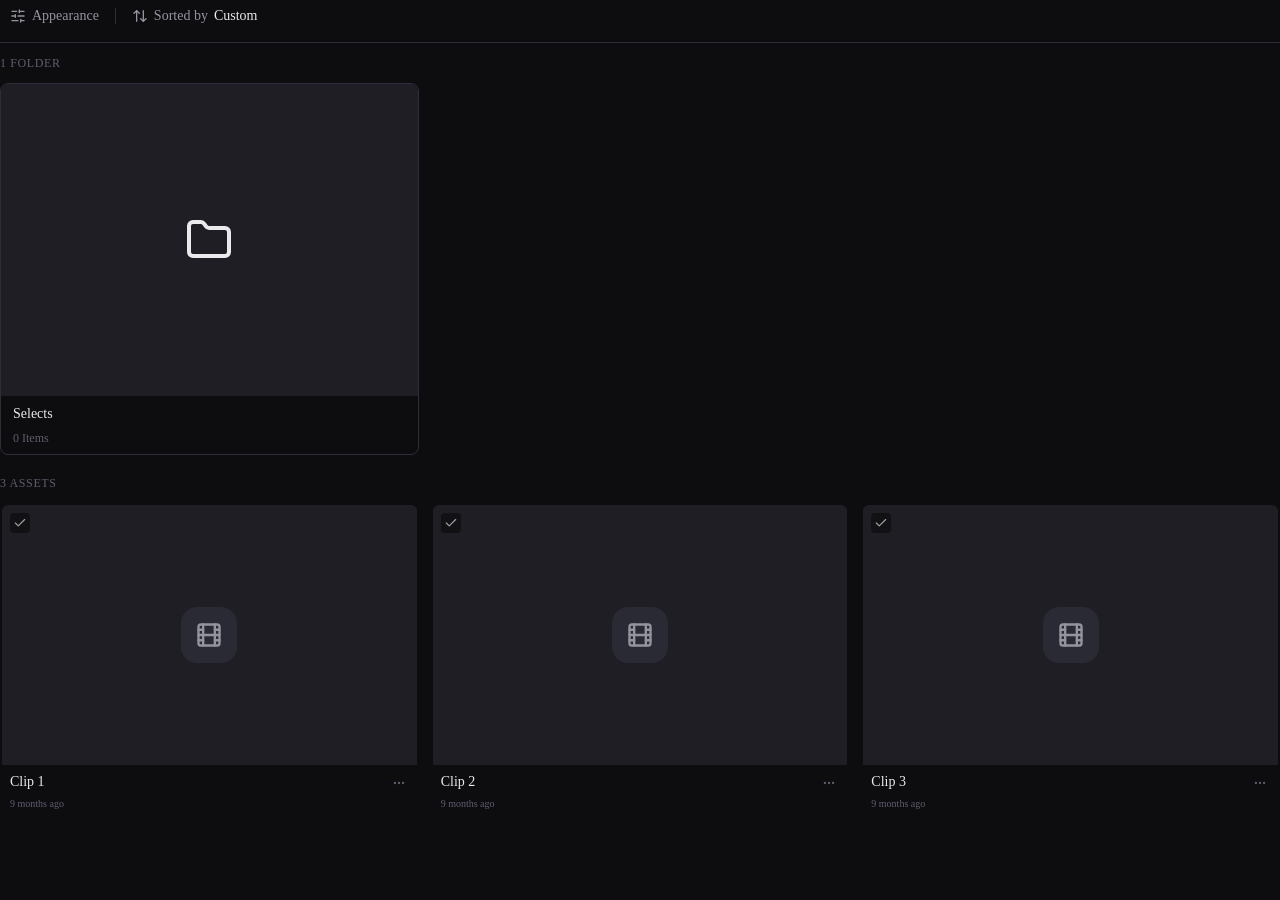
Test: AssetGrid right-click (grid view) › a selected folder gets the selection menu too
Click the text "Clip 1" at (27, 781), box left=10, top=773, right=45, bottom=790
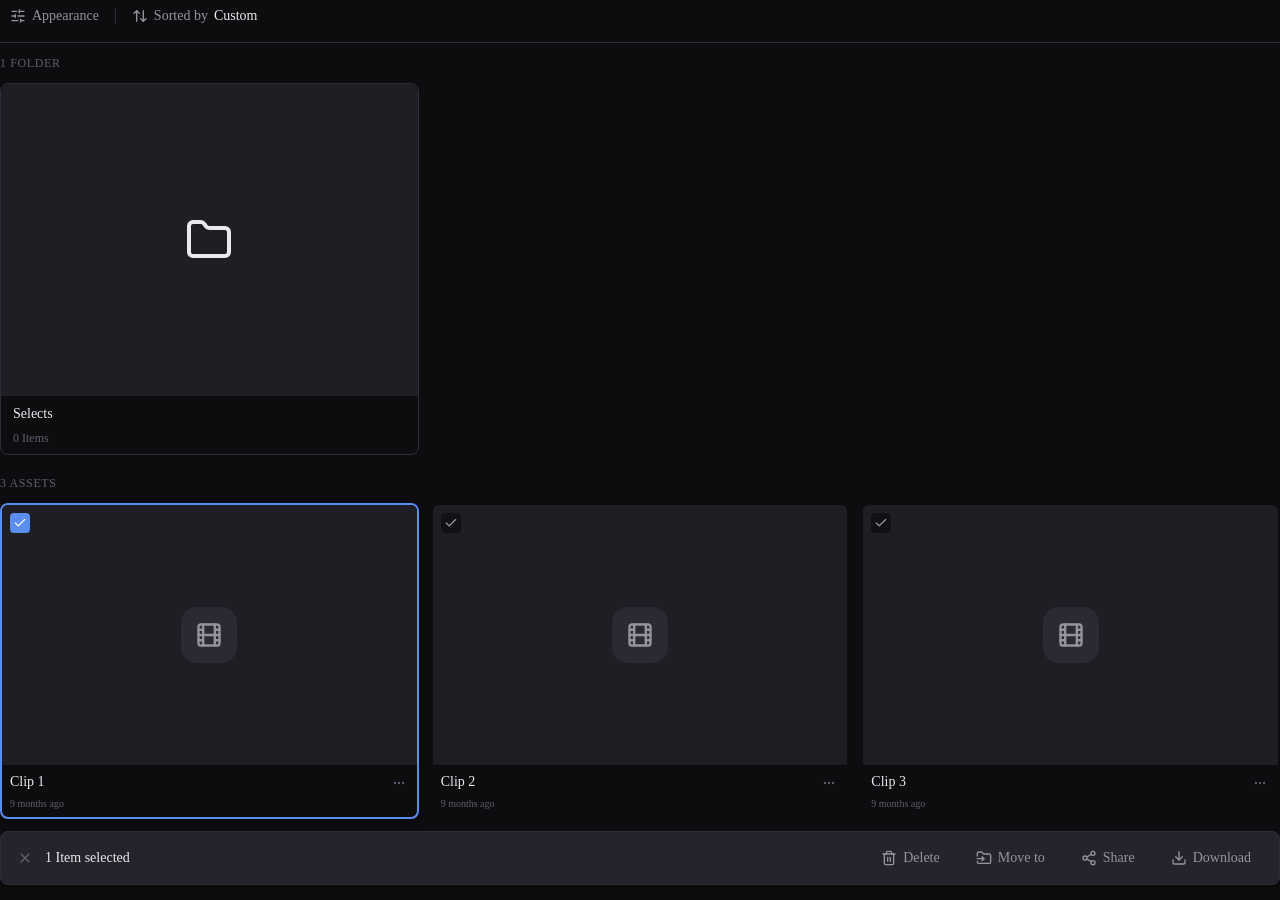
Click the text "Selects" at (33, 414), box left=13, top=404, right=53, bottom=424
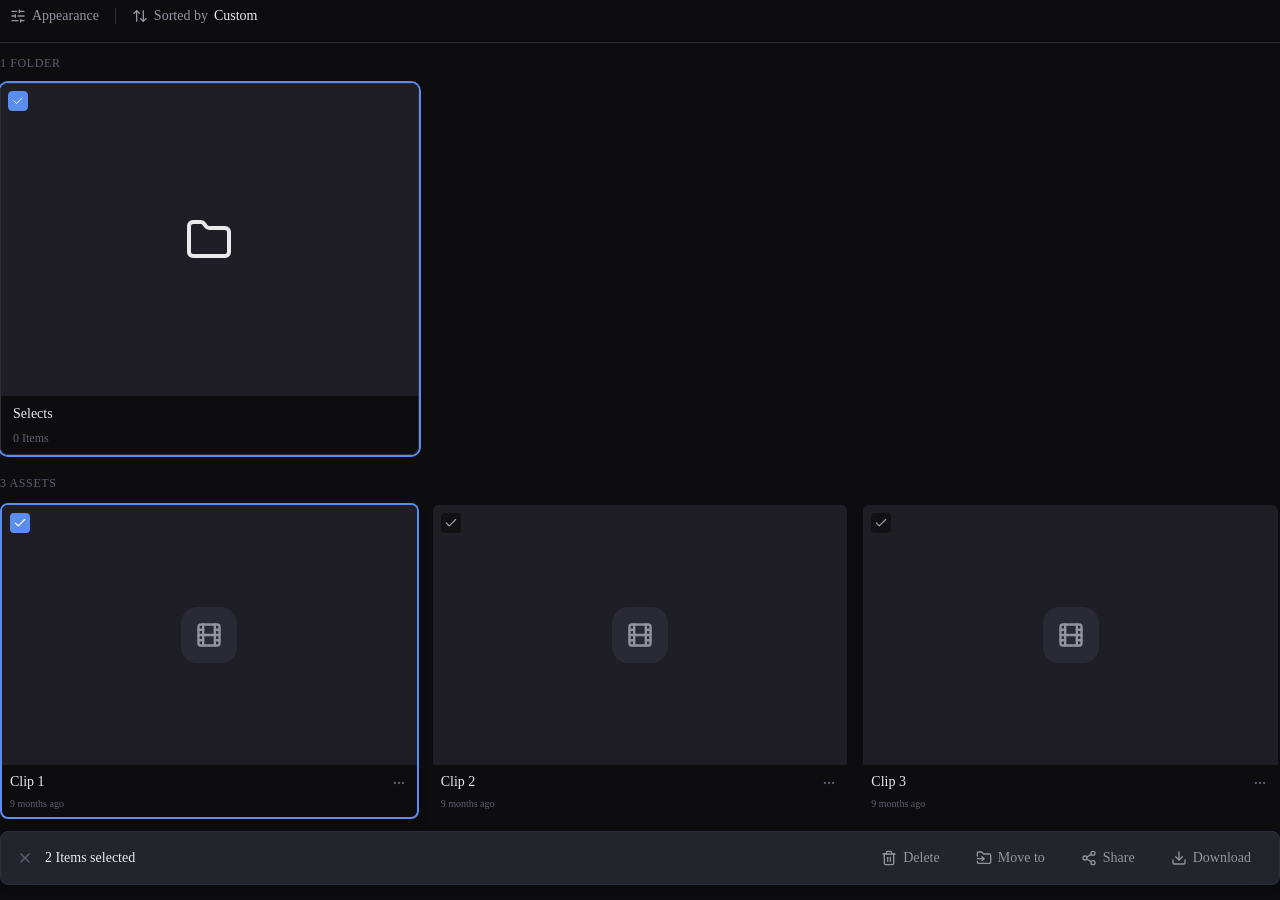
Right-click the text "Selects" at (33, 414), box left=13, top=404, right=53, bottom=424
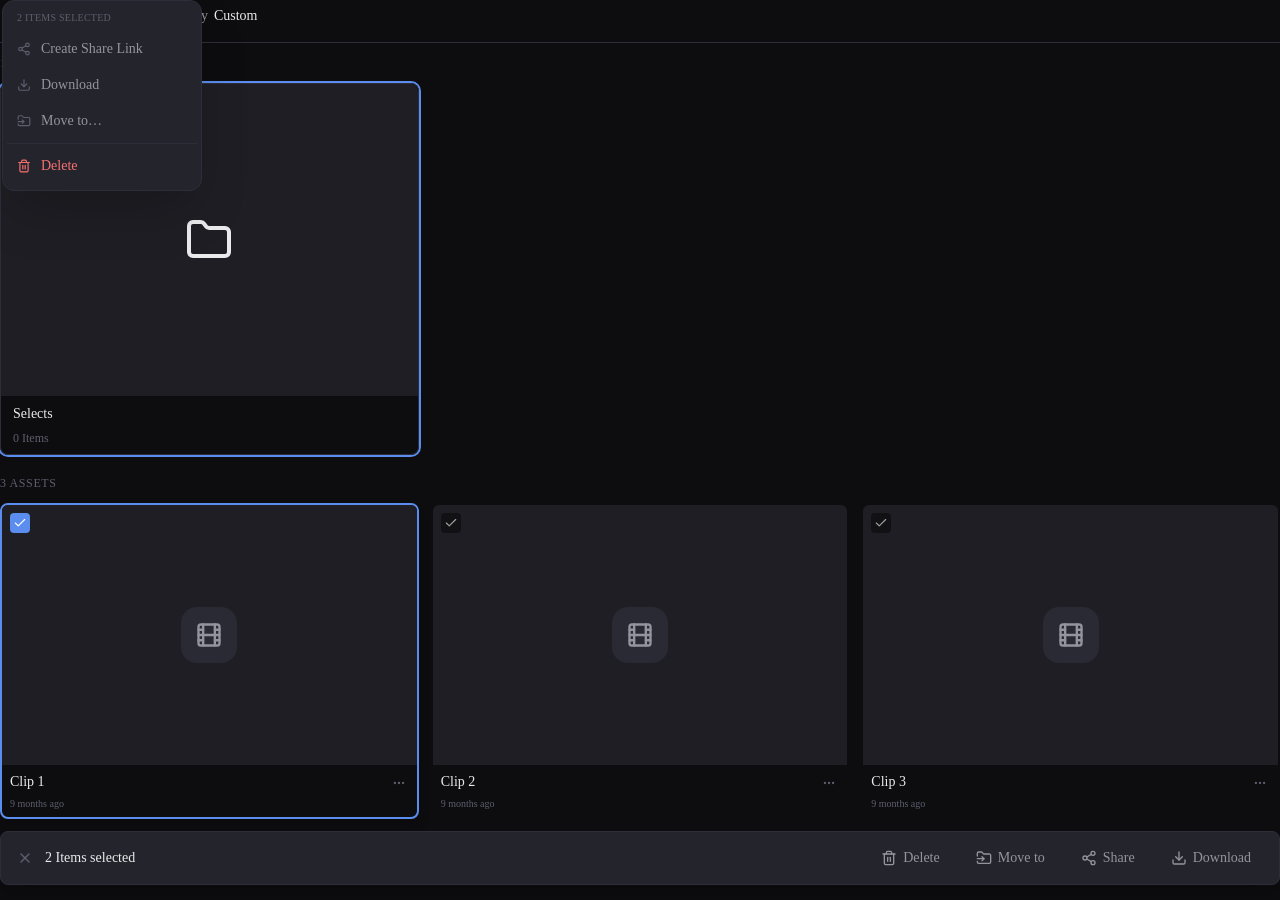
Now the text "2 items selected" is shown, box left=17, top=12, right=111, bottom=23
